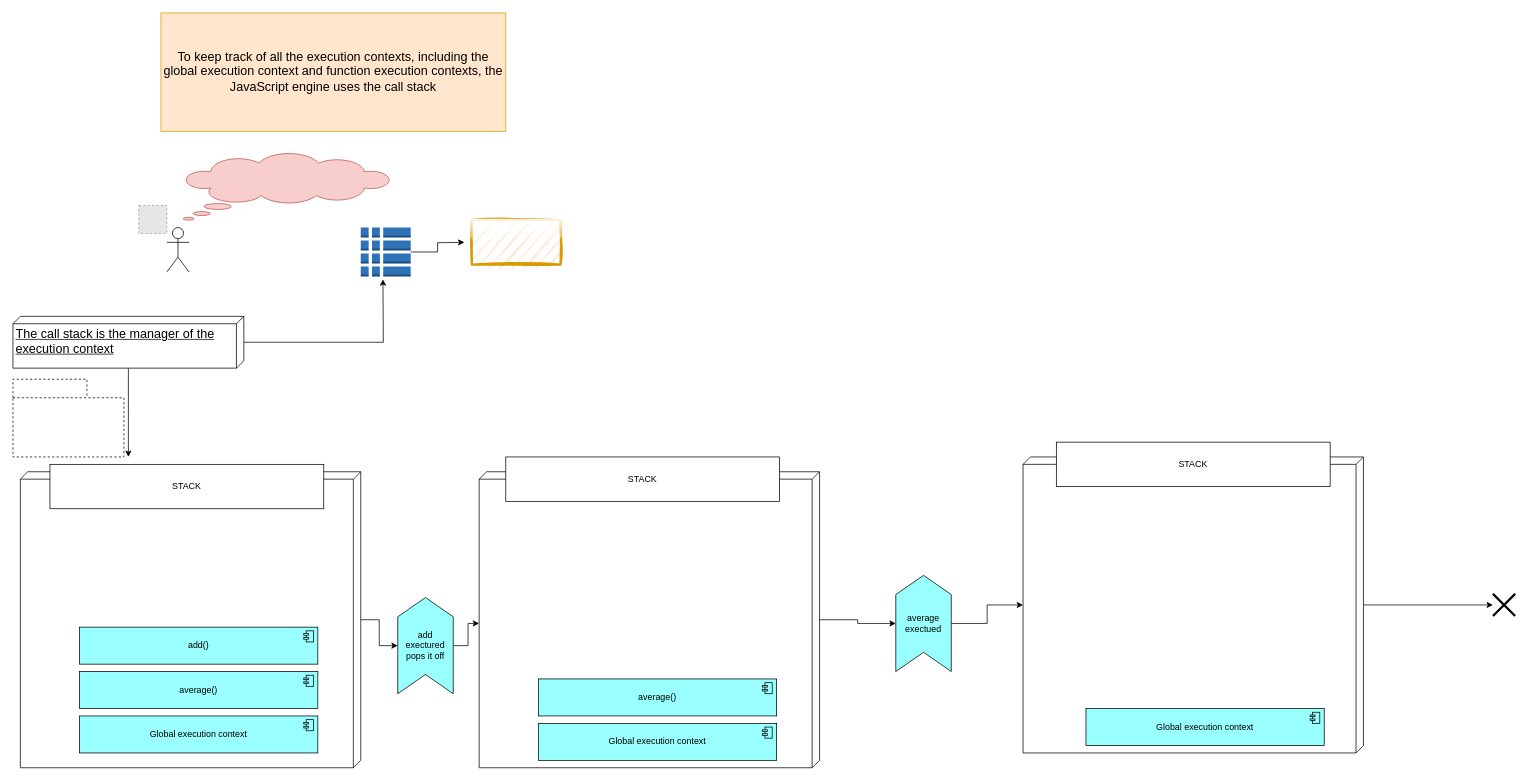
The diagram is 1529 pixels wide and 781 high, and some of its shapes have lost their labels. Grey dashed boxes stand in for pictures. Here are the shapes that lost their labels. From the top down, the box of each, then its label:
(182, 153, 390, 220): what's a call stack
(166, 227, 189, 272): Actor
(470, 219, 561, 265): LAST IN FIRST OUT
(12, 379, 124, 457): Push to stack
